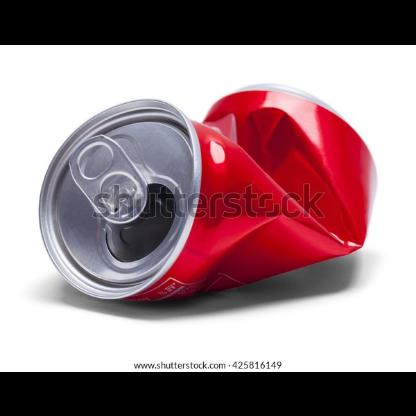Dent_Can: (155, 95, 370, 298), (211, 123, 340, 255)
Lid_Open: (69, 130, 179, 256)
Tin_Can: (23, 73, 381, 313)
